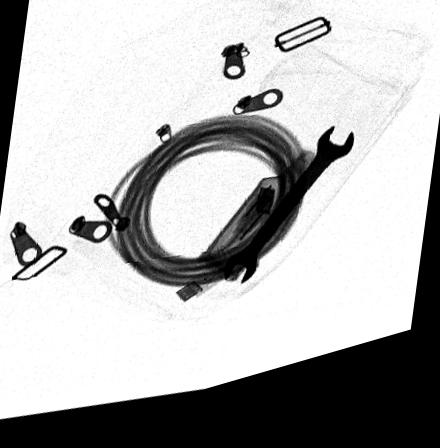Wrench: (222, 143, 356, 298)
